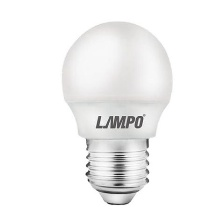light_bulb: (56, 14, 180, 208)
